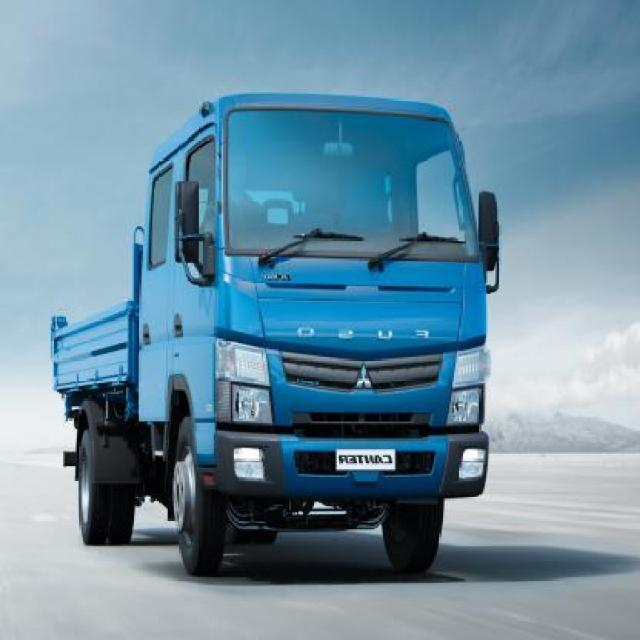truck: (49, 92, 503, 575)
